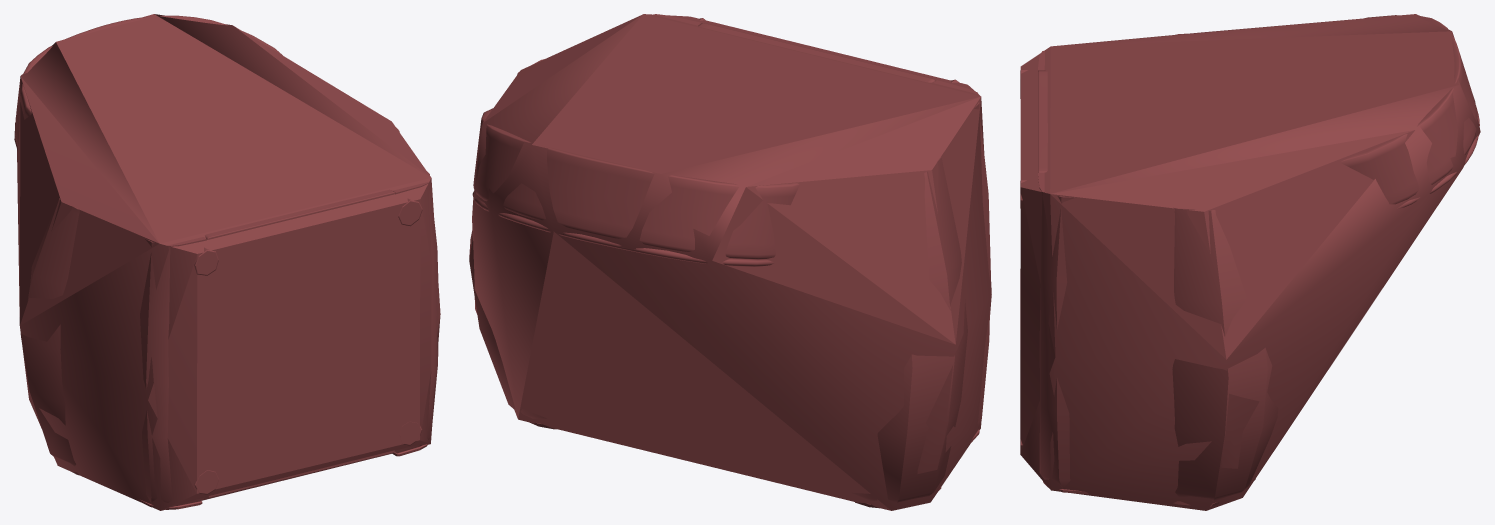
Rendered from armchair.fbx.
The picture shows the model from 3 angles, left to right: view 1: azimuth 30°, elevation 25°; view 2: azimuth 150°, elevation 25°; view 3: azimuth 270°, elevation 25°; orthographic projection. The views are drawn at different scales.
Parts seen in each view (by area): view 1: c_fauteuil, fauteuil; view 2: c_fauteuil, fauteuil; view 3: c_fauteuil, fauteuil.
Part boxes in pixels (x1,y1,x2,y2): c_fauteuil: (16, 14, 440, 510); fauteuil: (14, 15, 438, 509); c_fauteuil: (472, 14, 991, 510); fauteuil: (469, 14, 990, 508); c_fauteuil: (1020, 14, 1480, 510); fauteuil: (1020, 15, 1479, 506).
Size of the model in its own units: 132 by 105 by 121.
